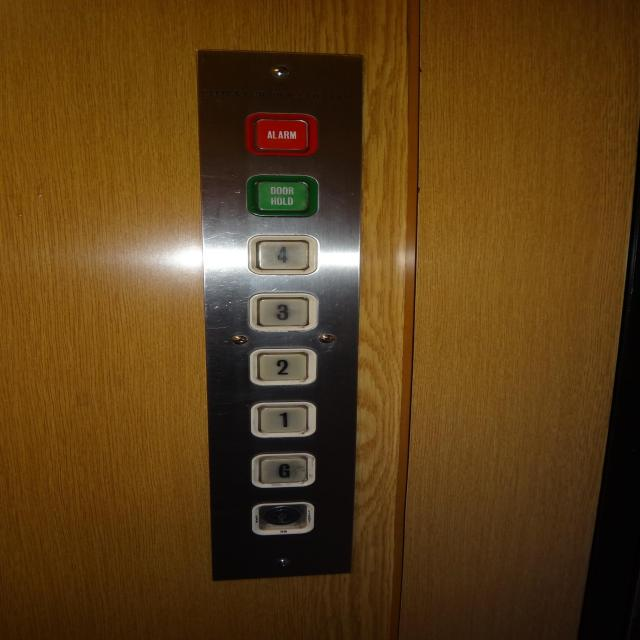1: (249, 398, 319, 441)
2: (246, 346, 319, 388)
3: (246, 288, 319, 334)
4: (247, 232, 320, 278)
G: (250, 450, 318, 490)
bt_keyhole: (250, 500, 316, 538)
text_alarm bell: (244, 109, 320, 157)
text_door open: (244, 171, 322, 219)
